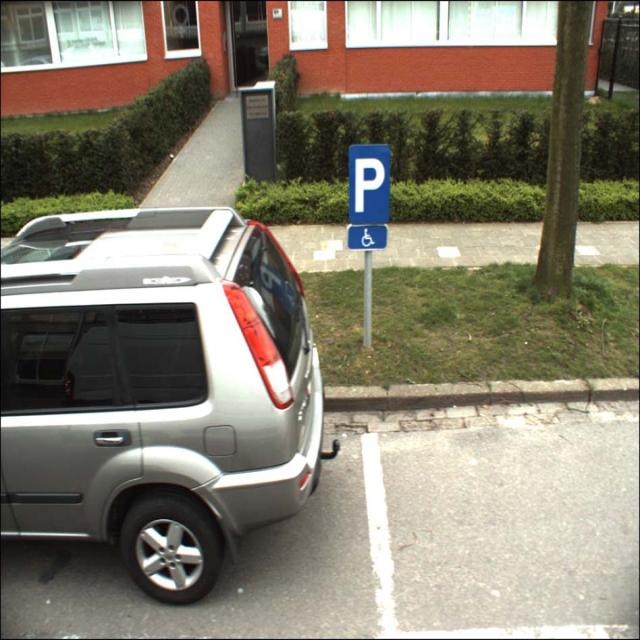park: (348, 144, 389, 225)
